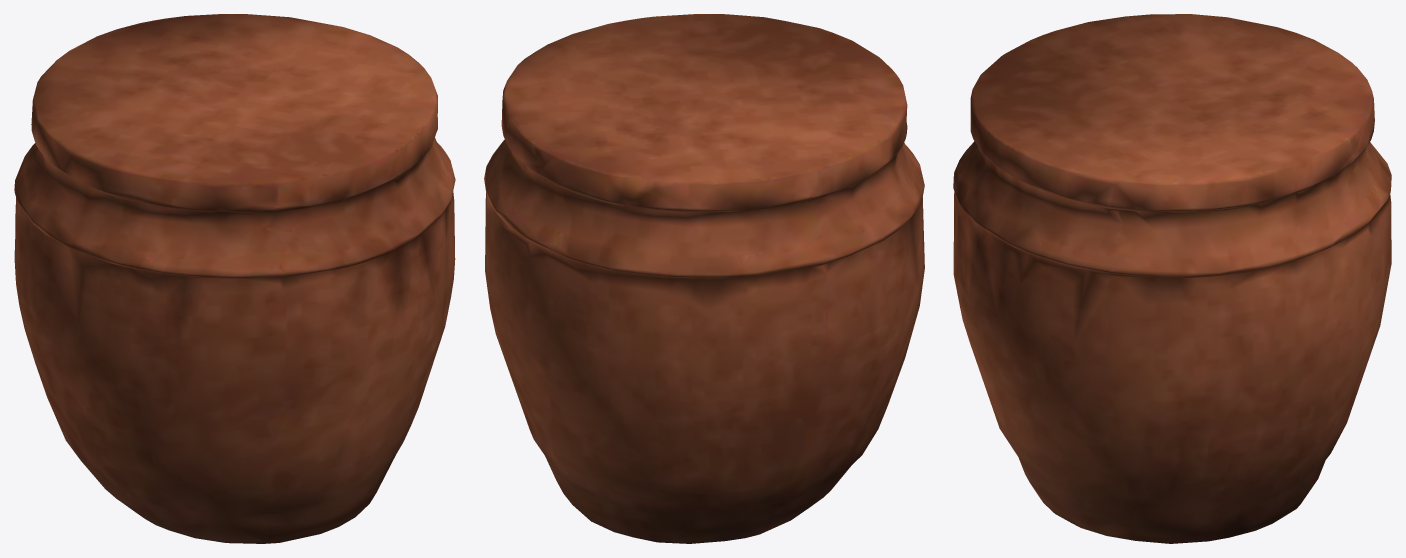
The model's file is sturdy-terracotta-pot-v001.glb.
3 renders of one model, left to right at view 1: azimuth 30°, elevation 25°; view 2: azimuth 150°, elevation 25°; view 3: azimuth 270°, elevation 25°, orthographic.
Visible parts, largest first — view 1: sturdy-terracotta-pot; view 2: sturdy-terracotta-pot; view 3: sturdy-terracotta-pot.
Boxes of the visible parts, x1,y1,x2,y2 form: sturdy-terracotta-pot: [14, 14, 455, 543]; sturdy-terracotta-pot: [484, 14, 924, 543]; sturdy-terracotta-pot: [953, 14, 1391, 543].
Size of the model in its own units: 0.4577 by 0.4595 by 0.4568.
Materials: 1 (1 with a texture image).
